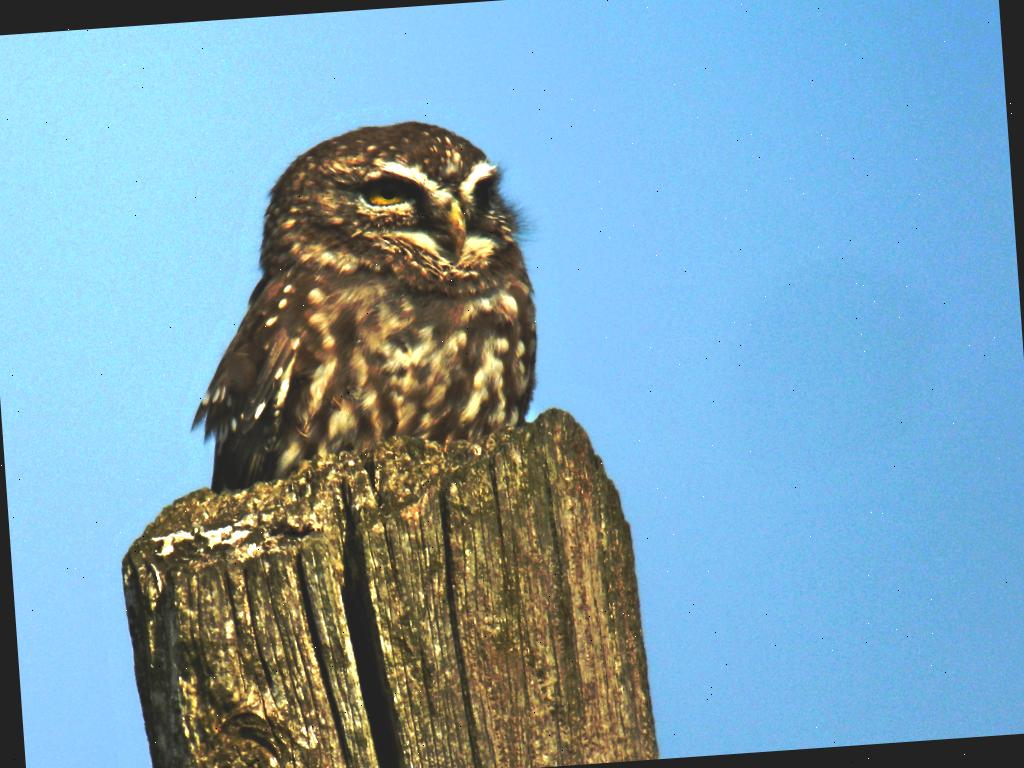Owl: (170, 112, 552, 491)
